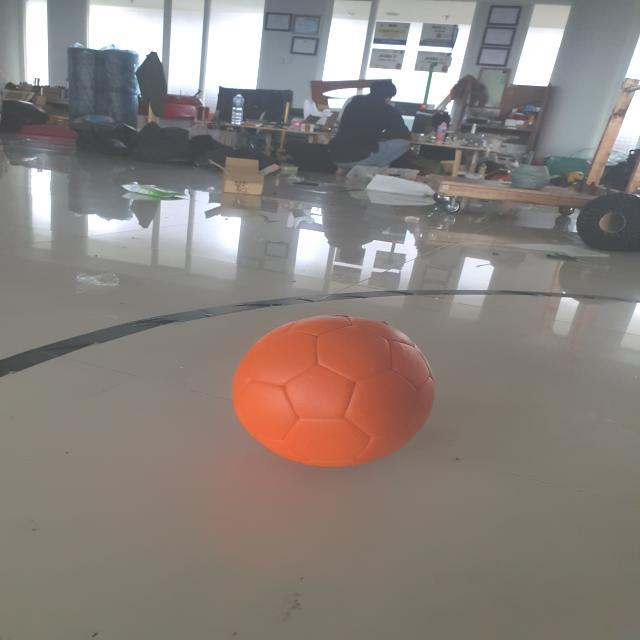bola: (221, 309, 438, 469)
